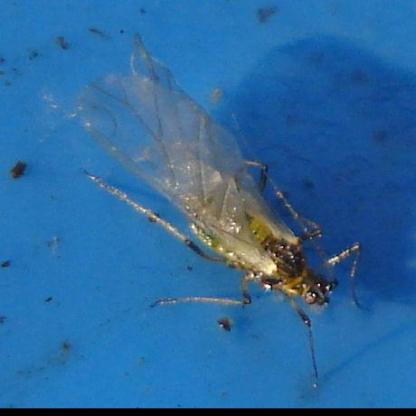aphid: (73, 43, 367, 355)
